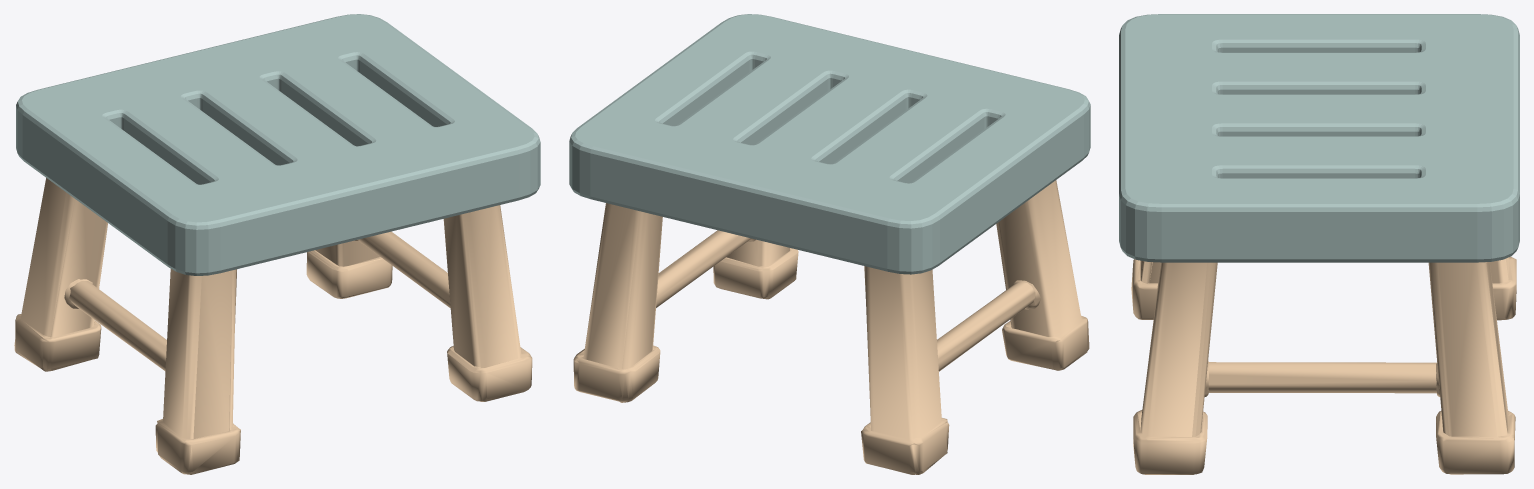
File: bath_stool.glb
The picture shows the model from 3 angles, left to right: view 1: azimuth 30°, elevation 25°; view 2: azimuth 150°, elevation 25°; view 3: azimuth 270°, elevation 25°; orthographic projection. The views are drawn at different scales.
Size of the model in its own units: 1.1 by 0.73 by 0.9557.
